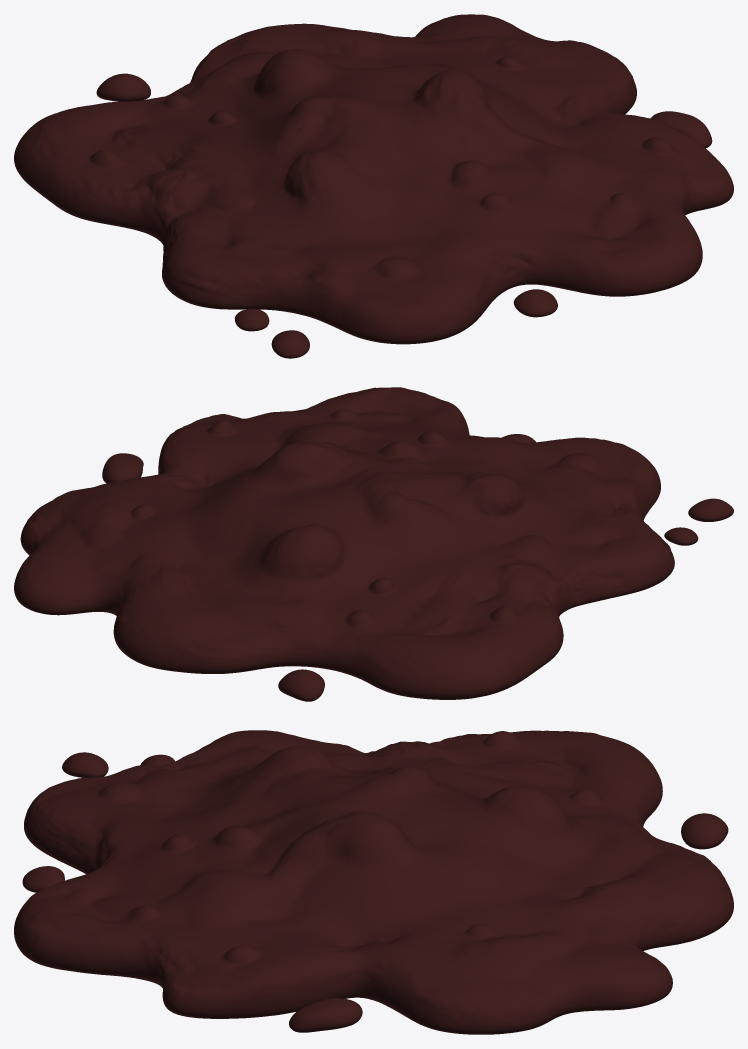
Rendered from lodo.glb.
3 renders of one model, top to bottom at view 1: azimuth 30°, elevation 25°; view 2: azimuth 150°, elevation 25°; view 3: azimuth 270°, elevation 25°, orthographic. The views are drawn at different scales.
Visible parts, largest first — view 1: Lodo; view 2: Lodo; view 3: Lodo.
Part boxes in pixels (x1,y1,x2,y2): Lodo: (14, 14, 733, 358); Lodo: (14, 387, 733, 701); Lodo: (14, 730, 733, 1034).
Bounding box in the file's own units: 1.88 × 0.3314 × 2.02.
